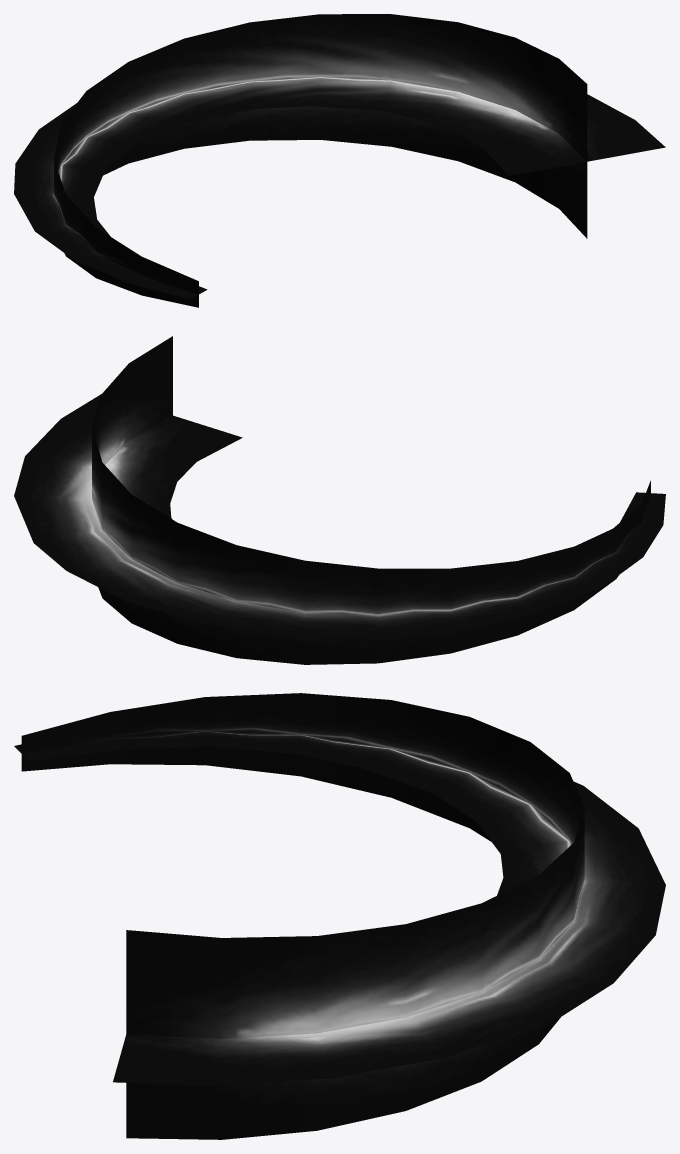
The picture shows the model from 3 angles, top to bottom: view 1: azimuth 30°, elevation 25°; view 2: azimuth 150°, elevation 25°; view 3: azimuth 270°, elevation 25°; orthographic projection. The views are drawn at different scales.
Visible parts, largest first — view 1: Plane004; view 2: Plane004; view 3: Plane004.
Boxes of the visible parts, left/top/right/bottom form: Plane004: left=14, top=14, right=665, bottom=307; Plane004: left=14, top=336, right=665, bottom=664; Plane004: left=14, top=693, right=665, bottom=1139.
Bounding box in the file's own units: 52.19 × 13.69 × 38.84.
Materials: 1 (1 with a texture image).
